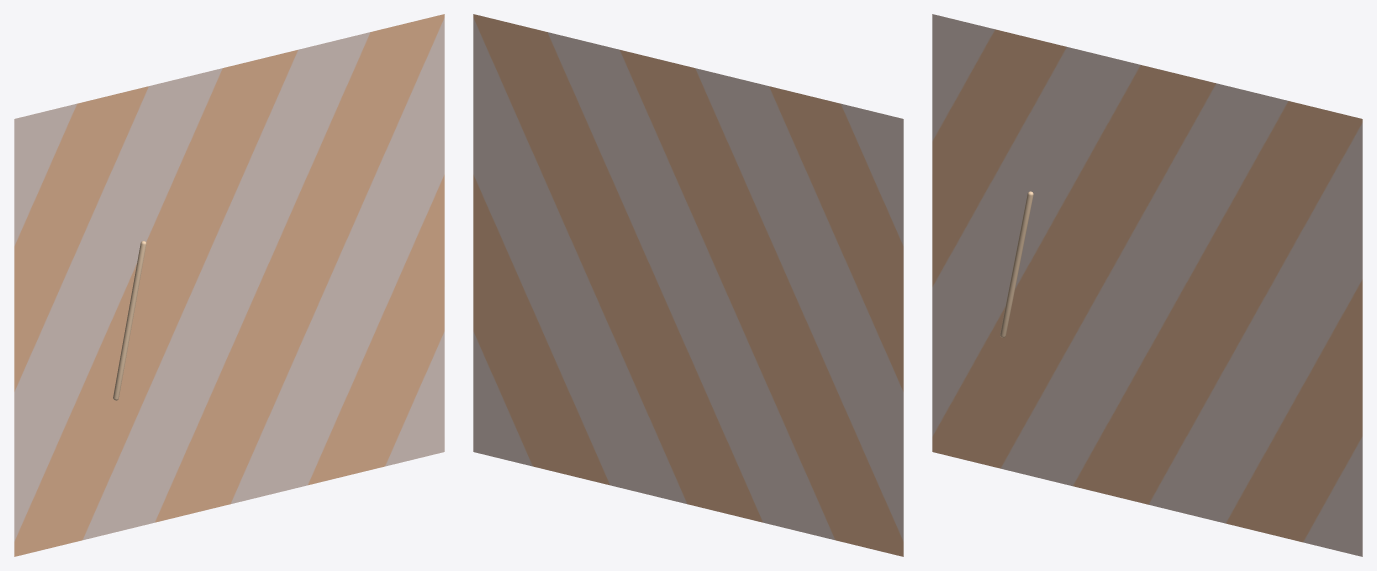
The model's file is animationsucettetest.glb.
The picture shows the model from 3 angles, left to right: view 1: azimuth 30°, elevation 25°; view 2: azimuth 150°, elevation 25°; view 3: azimuth 330°, elevation 25°; orthographic projection.
Parts seen in each view (by area): view 1: Plane, Cylinder.12; view 2: Plane; view 3: Plane, Cylinder.12.
Boxes of the visible parts, bbox=[...] form: Plane: bbox=[14, 14, 444, 556]; Cylinder.12: bbox=[113, 241, 146, 400]; Plane: bbox=[473, 14, 903, 556]; Plane: bbox=[932, 14, 1362, 556]; Cylinder.12: bbox=[1000, 191, 1033, 337].
Bounding box in the file's own units: 2203 × 2143 × 151.
2 materials, 1 textured.
